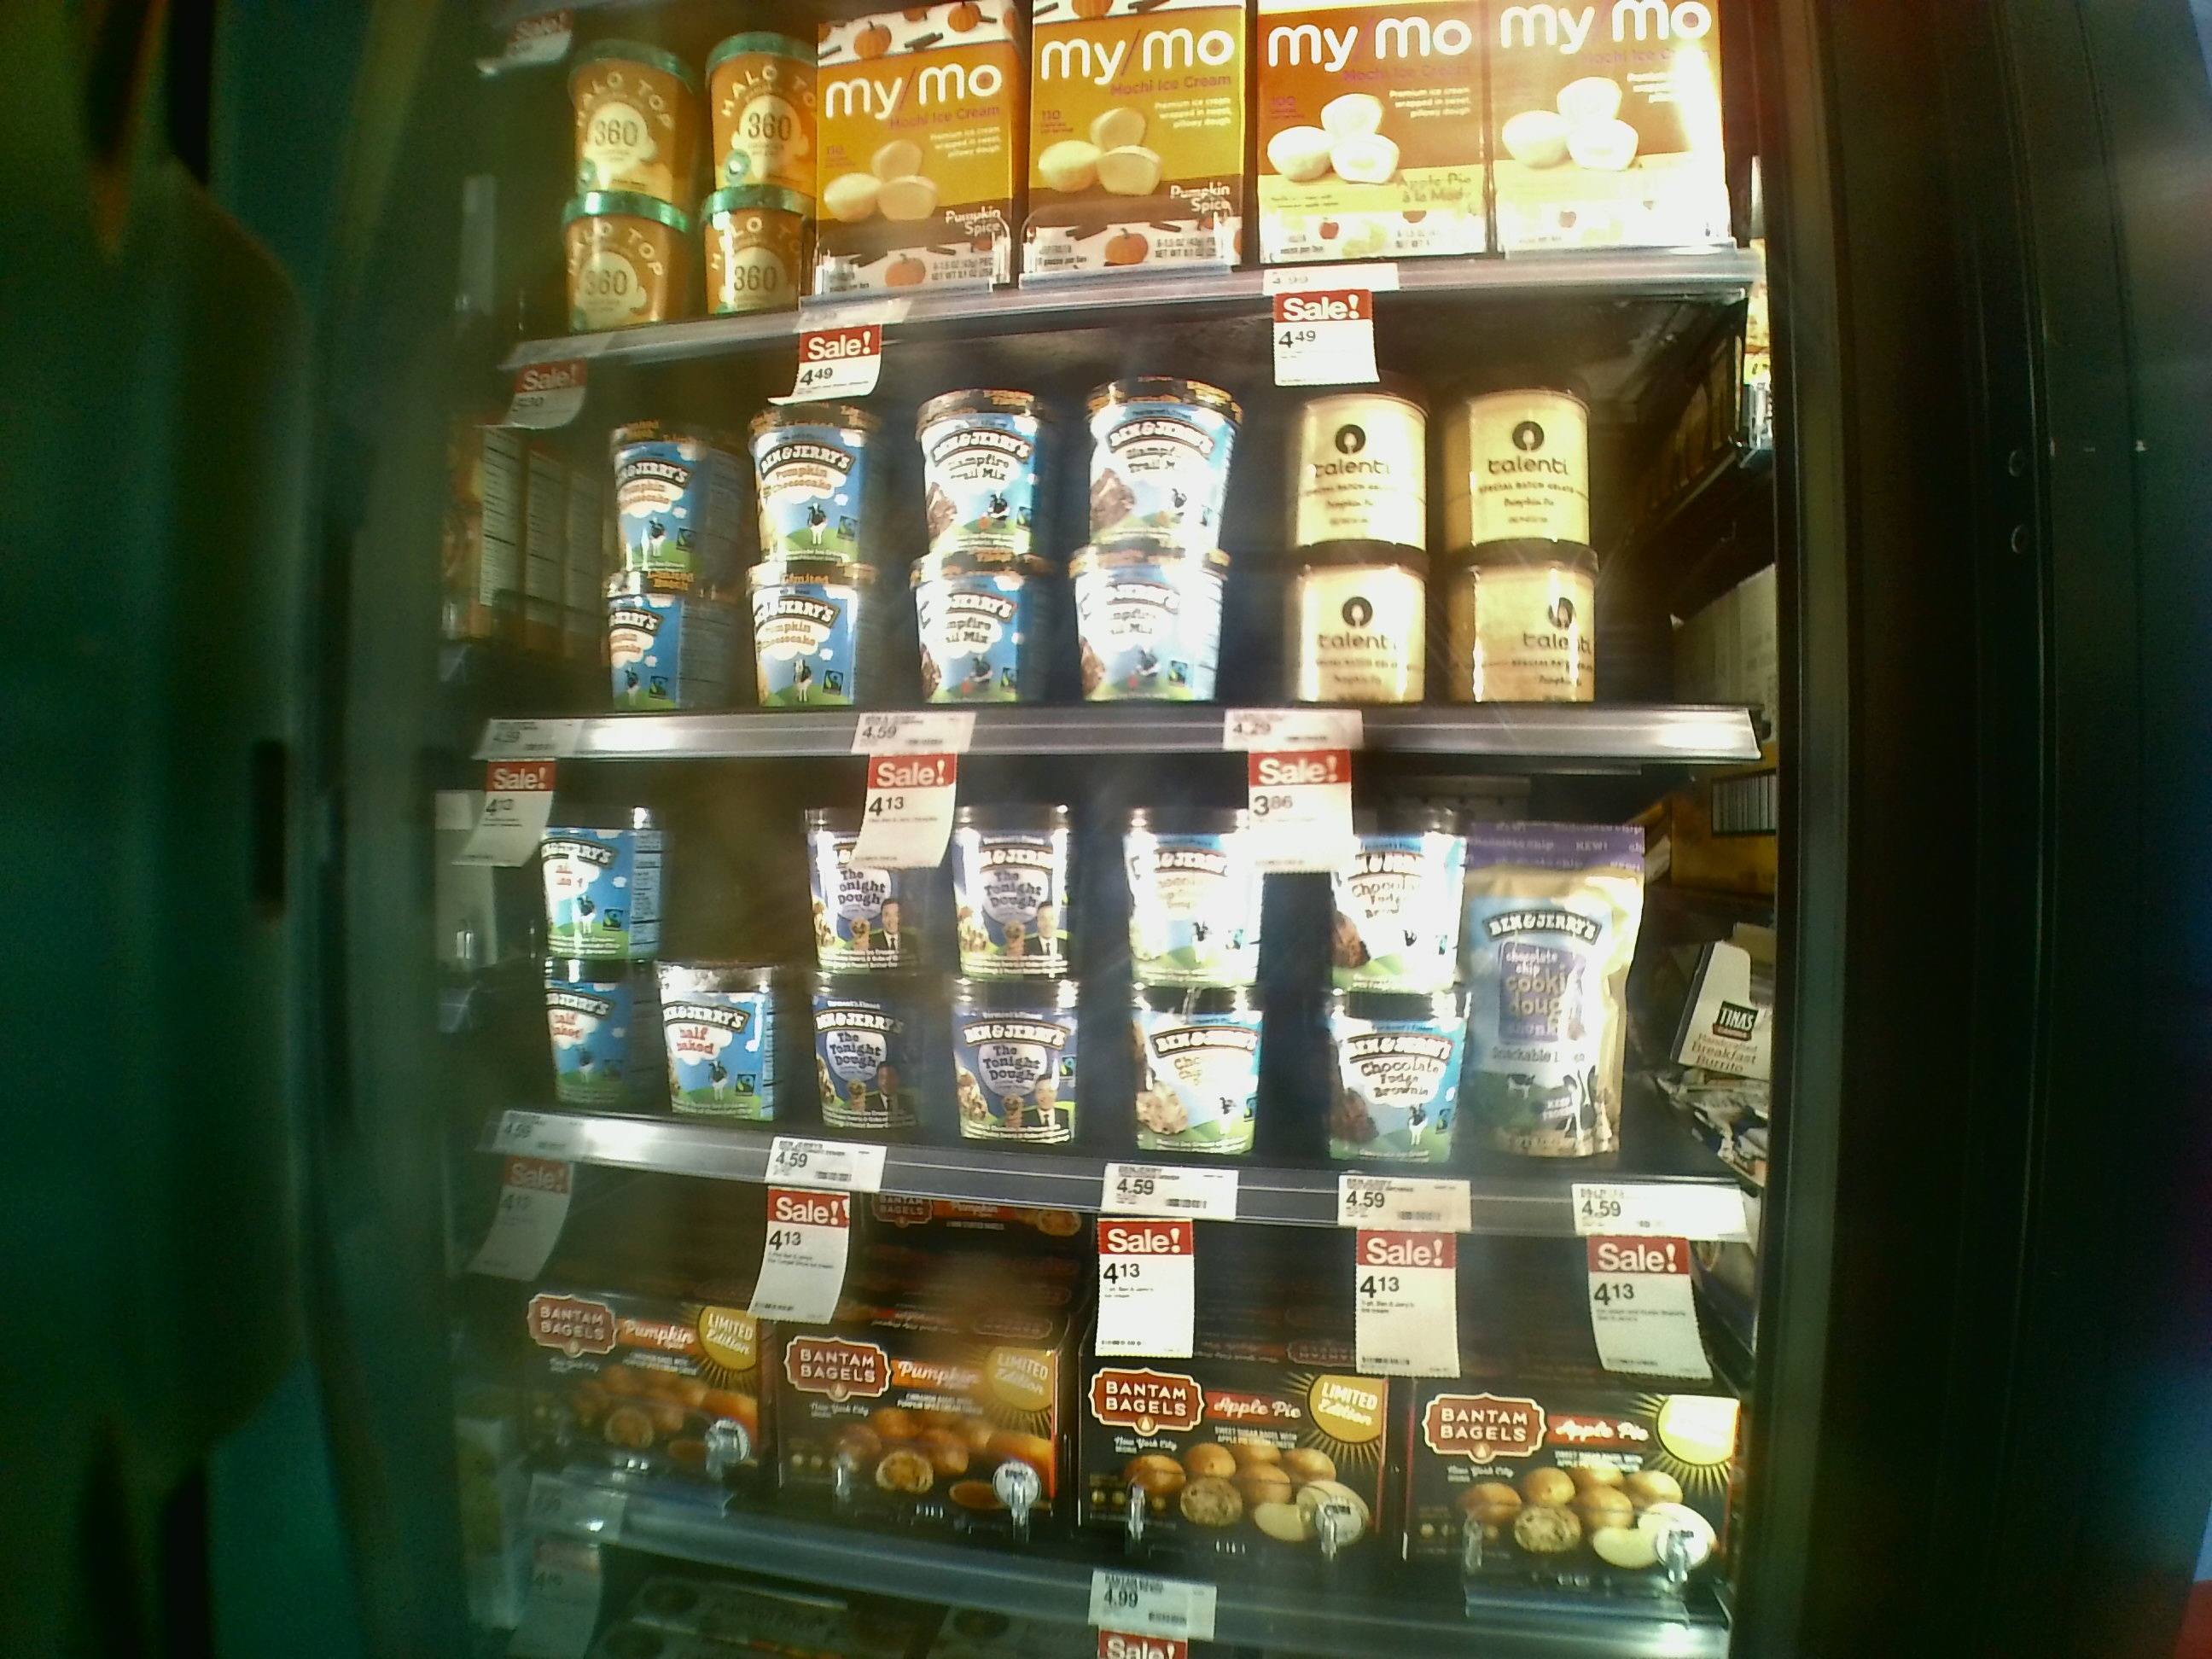shelf: (423, 741, 1764, 1249), (451, 326, 1773, 760)
